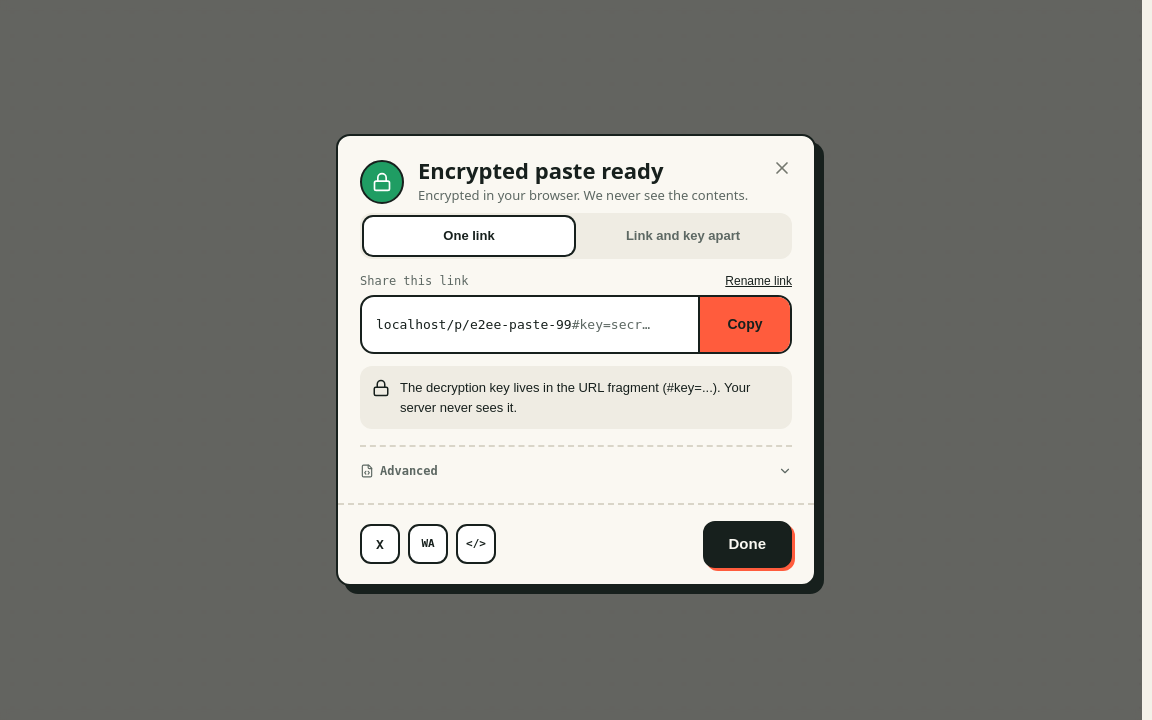
Test case: PasteCreatedModal Security & UX Hardening › modal_e2eeLinkMode_clearlyDifferentiatesFullVsSeparate
Expected: the button "One link" is shown, [364,217,574,255]
Expected: the field named "shareable paste url" shows "#key=", [572,317,611,332]
// Switch to "link and key apart" mode
Click the button "Link and key apart" at (683, 236), box [578,217,788,255]
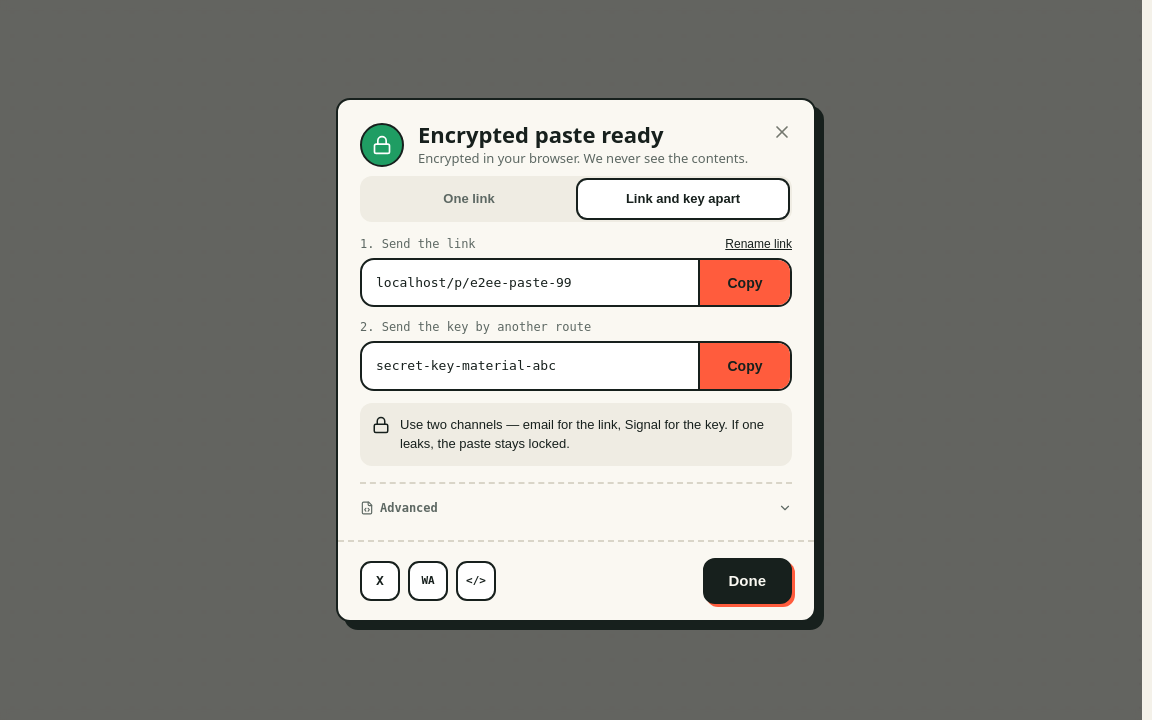
Result: the text "secret-key-material-abc" is shown at [376,358,556,373]
